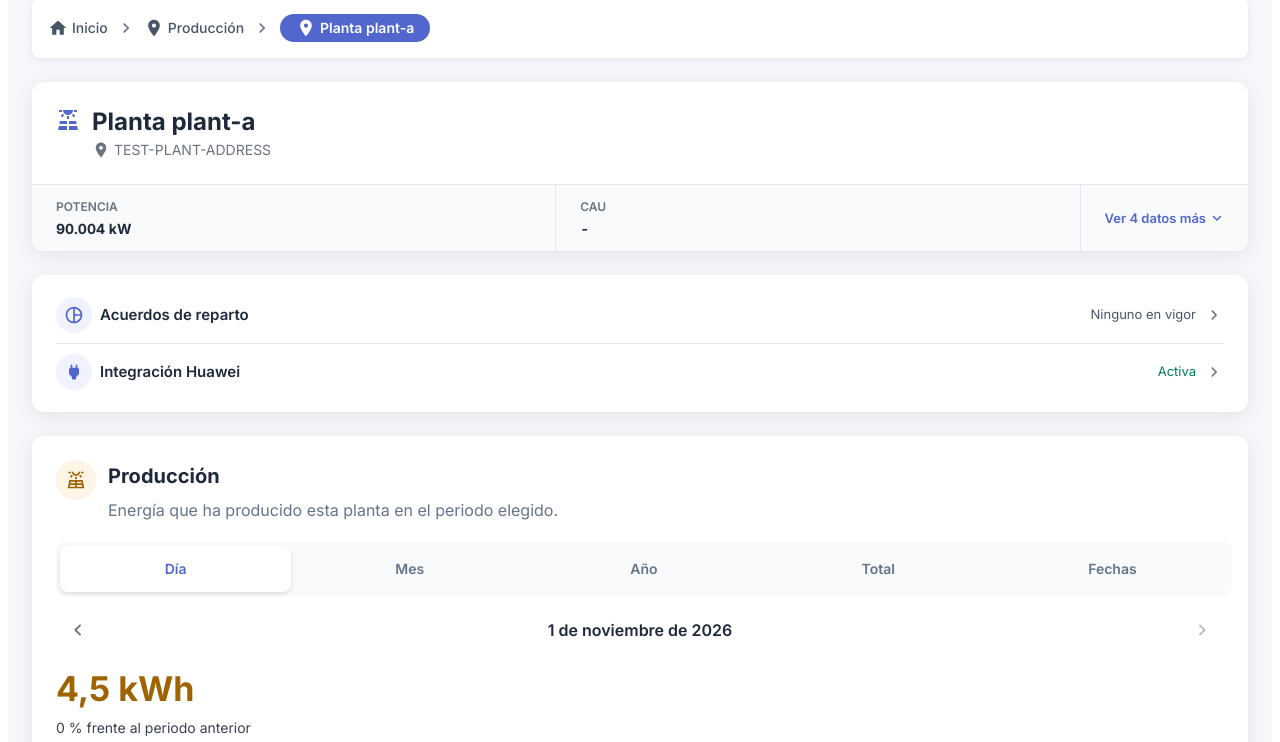
it: PlantDetailPage rules (#260) › the chart subtitle › UI-PLT-007 the Año period is subtitled in Spanish as Producción por mes
Click the button "Año": (644, 569) x1=528 y1=546 x2=760 y2=592
(page scrolled)
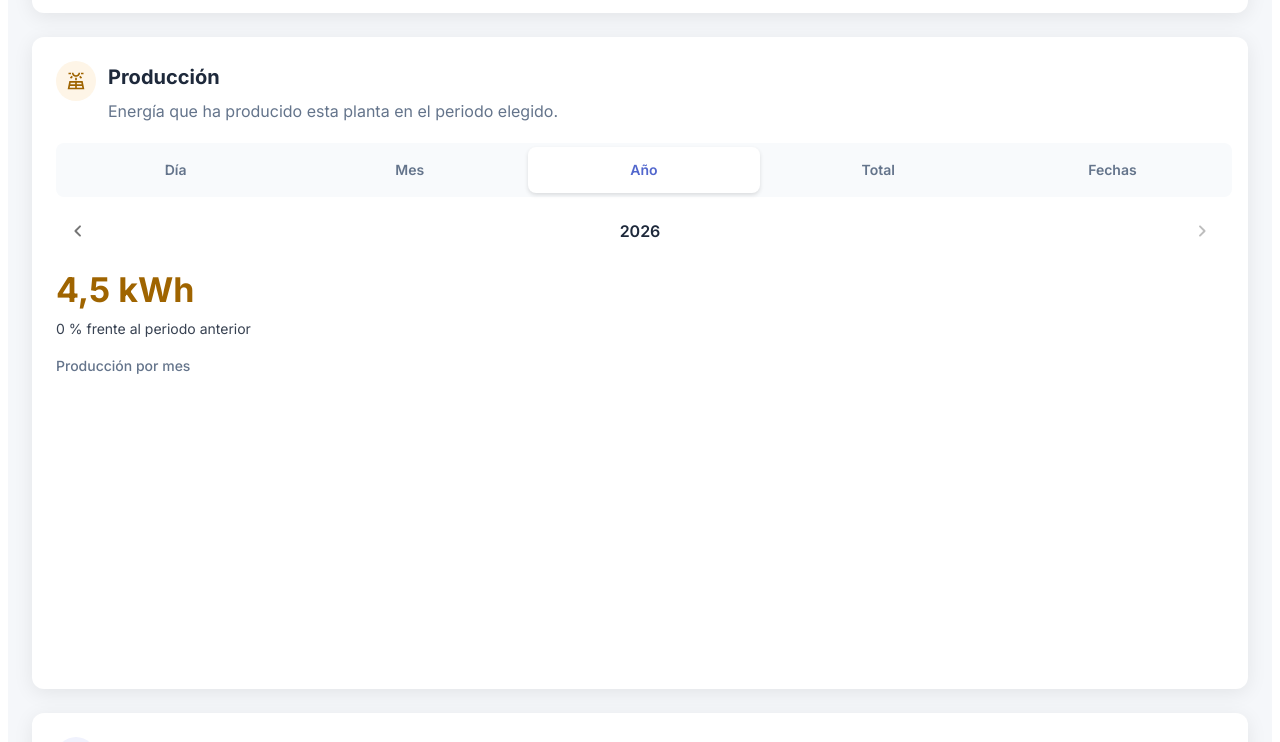
Now the heading "Producción por mes" is shown, box x1=56 y1=358 x2=190 y2=374
